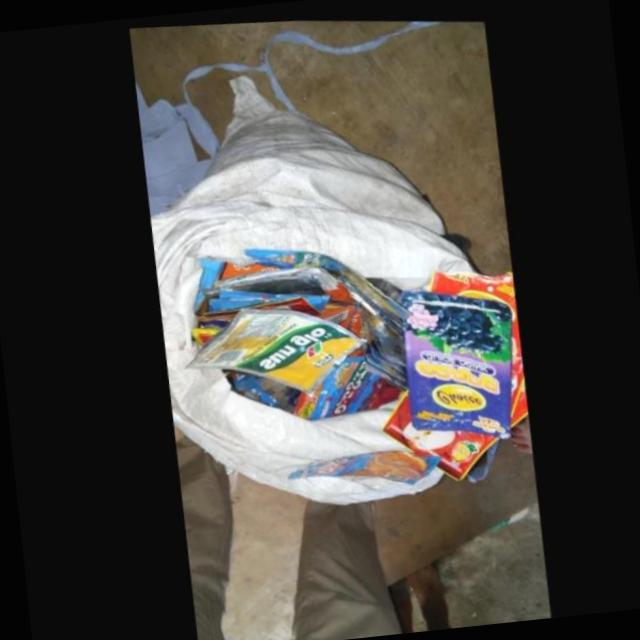bao_bi_thuc_pham: (395, 282, 509, 433), (179, 304, 360, 389), (239, 245, 402, 316), (288, 352, 377, 418), (280, 446, 431, 480)
